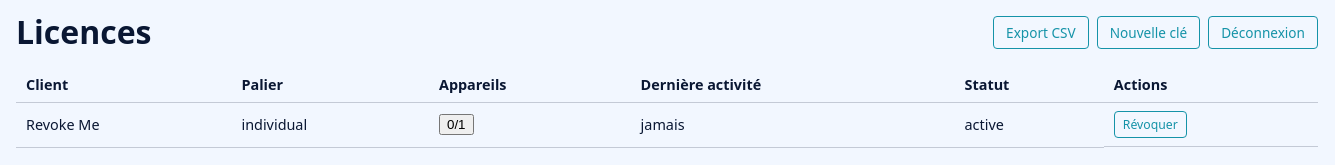
Test: AdminDashboard › revokes and reactivates a license
The width and height of the screenshot is (1335, 165).
Expected: the text "Revoke Me" is shown, [16,102,231,147]
Click the button "Révoquer" at (1150, 124), box [1114,111,1187,138]
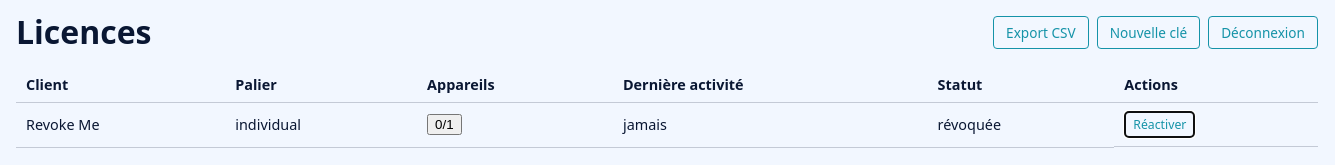
Expected: the text "révoquée" is shown, [928,102,1114,147]
Expected: the button "Réactiver" is shown, [1124,111,1195,138]
